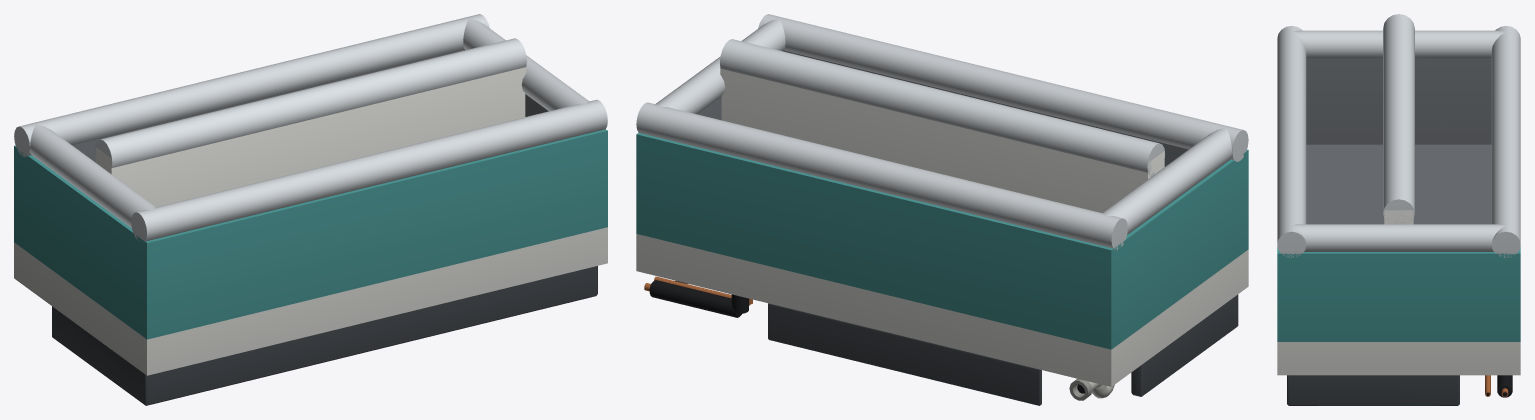
File: IslandFreezer_Open_20.glb
3 renders of one model, left to right at view 1: azimuth 30°, elevation 25°; view 2: azimuth 150°, elevation 25°; view 3: azimuth 270°, elevation 25°, orthographic. The views are drawn at different scales.
Visible parts, largest first — view 1: SM_IslandFreezer_Open_20; view 2: SM_IslandFreezer_Open_20; view 3: SM_IslandFreezer_Open_20.
Part boxes in pixels (box(x1,y1,x2,y2)): SM_IslandFreezer_Open_20: box(14, 14, 607, 405); SM_IslandFreezer_Open_20: box(636, 14, 1248, 405); SM_IslandFreezer_Open_20: box(1277, 14, 1520, 405).
Size of the model in its own units: 2 by 0.9 by 1.
Materials: 1 (1 with a texture image).
